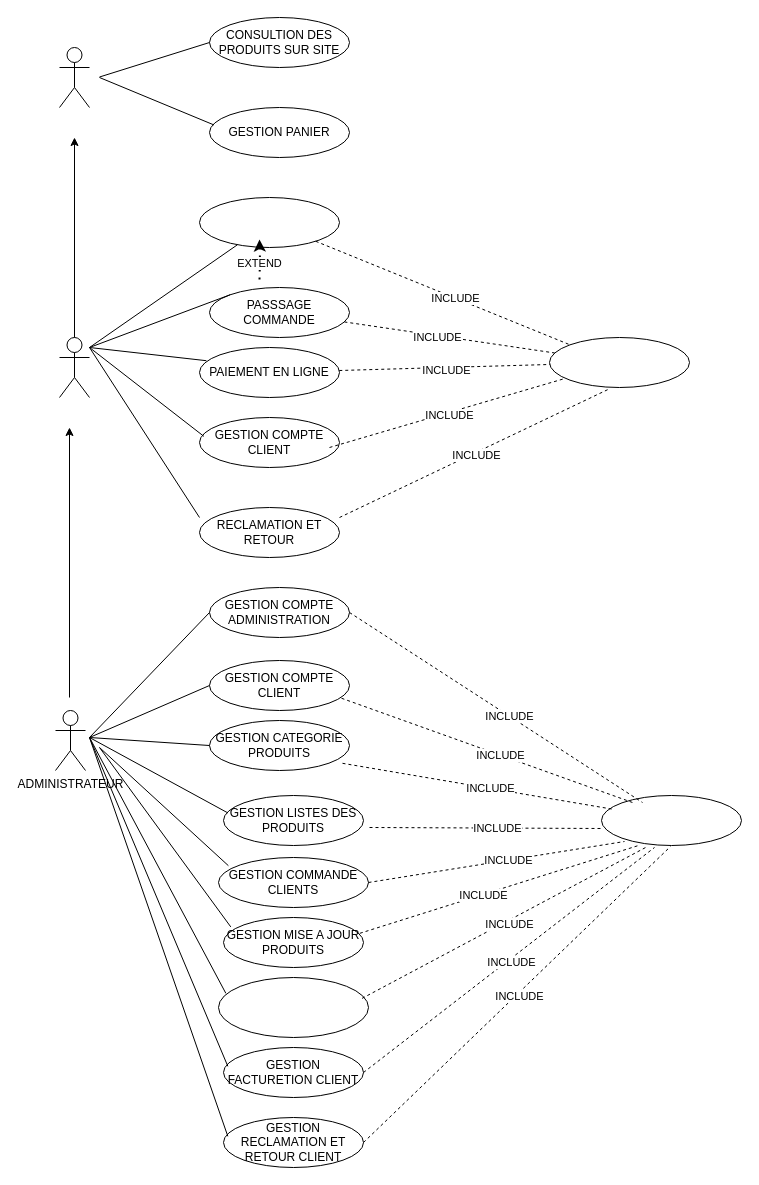
This 759x1185 diagram has some shape labels left out. The box of each missing label's shape, as (x1, y1, x2, y2) in pixels:
ADMINISTRATEUR D'AUTHENTIFICATION: (600, 794, 742, 846)
CHOIX BOUTIQUE DE LIVRAISON: (198, 196, 340, 248)
CLIENT: (58, 336, 90, 398)
CLIENT D'AUTHENTIFICATION: (548, 336, 690, 388)
GESTION DES OFFRES ET REMISES PRODUITS: (218, 976, 368, 1038)
VISITEUR: (58, 46, 90, 108)
